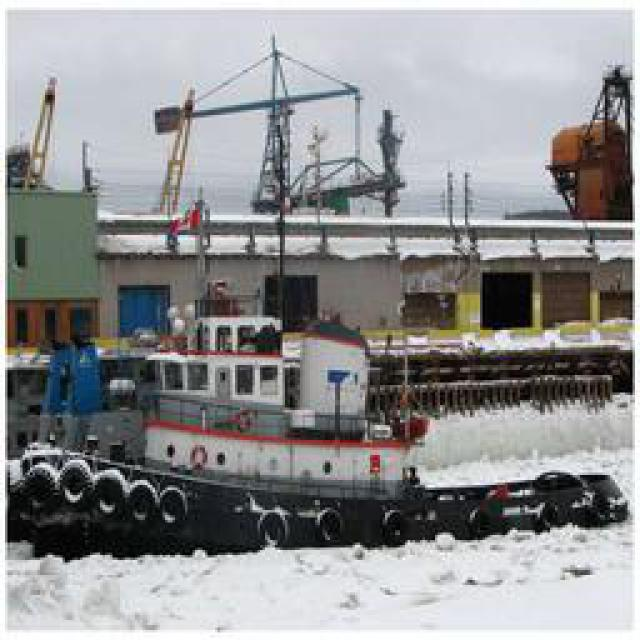Ship: (12, 200, 640, 560)
